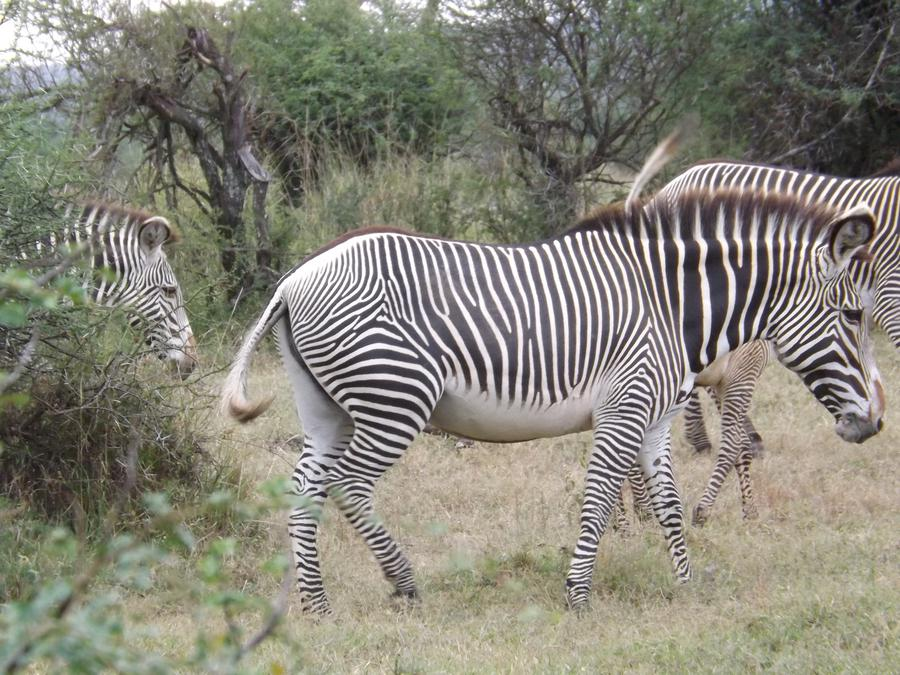zebra_grevys: (251, 216, 663, 427)
